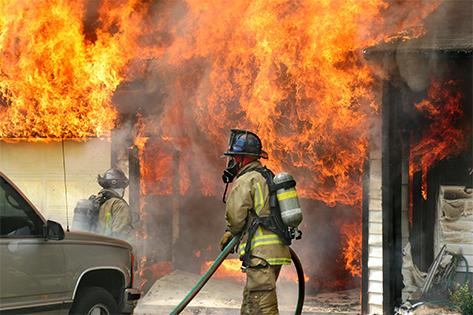fire: (3, 0, 451, 218)
